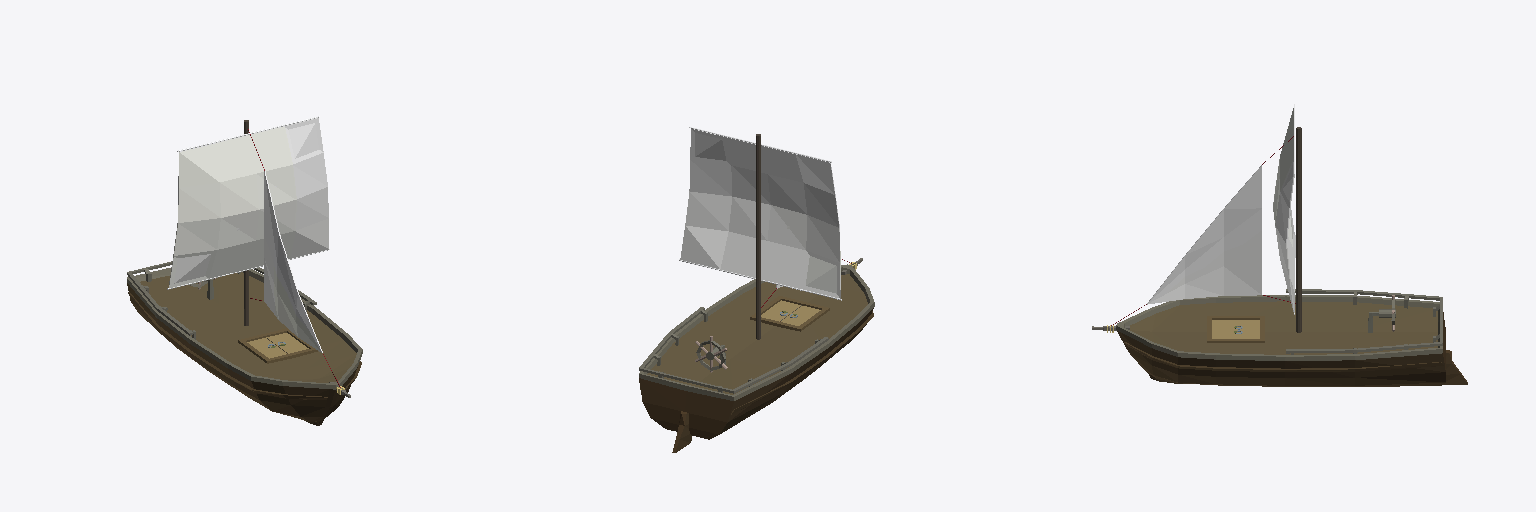
3 renders of one model, left to right at view 1: azimuth 30°, elevation 25°; view 2: azimuth 150°, elevation 25°; view 3: azimuth 270°, elevation 25°, orthographic.
Visible parts, largest first — view 1: Sail, Body, Mast; view 2: Body, Sail, Mast; view 3: Body, Sail, Mast.
Boxes of the visible parts, <box> form: Sail: <box>169,118,340,387</box>; Body: <box>127,261,362,425</box>; Mast: <box>167,116,329,325</box>; Body: <box>639,258,874,452</box>; Sail: <box>680,129,851,307</box>; Mast: <box>679,127,841,339</box>; Body: <box>1092,289,1467,386</box>; Sail: <box>1111,108,1295,325</box>; Mast: <box>1294,104,1301,332</box>.
Size of the model in its own units: 7.43 by 11.18 by 14.93.
1 materials, 1 textured.